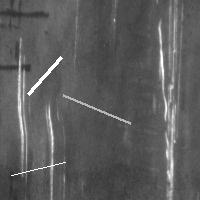scratches: (155, 2, 182, 198), (58, 90, 135, 128), (14, 51, 32, 182), (42, 100, 65, 198), (23, 52, 66, 99), (1, 1, 52, 34), (6, 157, 70, 180), (1, 56, 34, 76)
